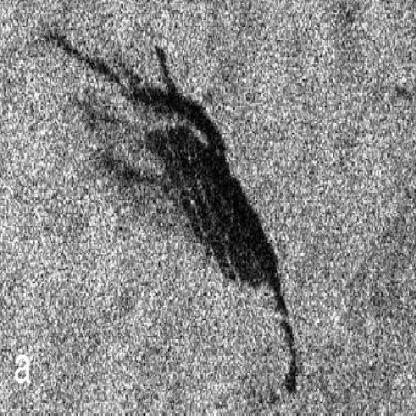oil: (43, 11, 316, 399)
